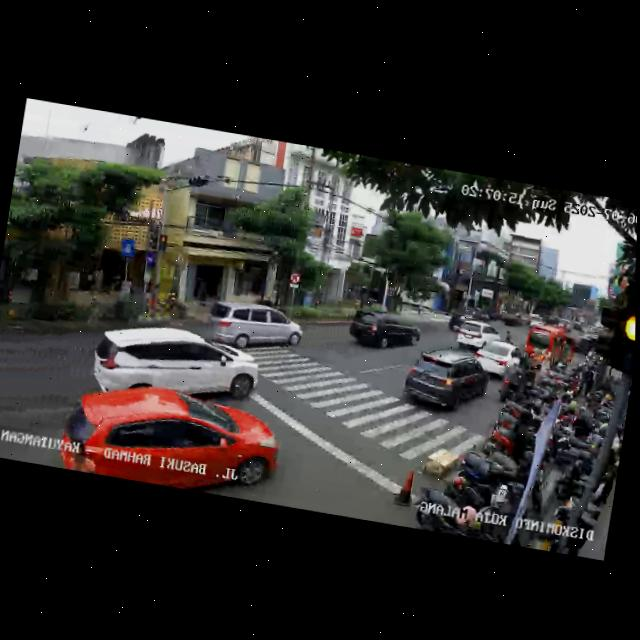car: (57, 371, 285, 504), (81, 309, 258, 407), (398, 345, 492, 421), (205, 294, 304, 360), (346, 307, 423, 359), (521, 323, 576, 375), (468, 338, 531, 382), (452, 317, 502, 355)
motorcycle: (497, 355, 523, 404)
